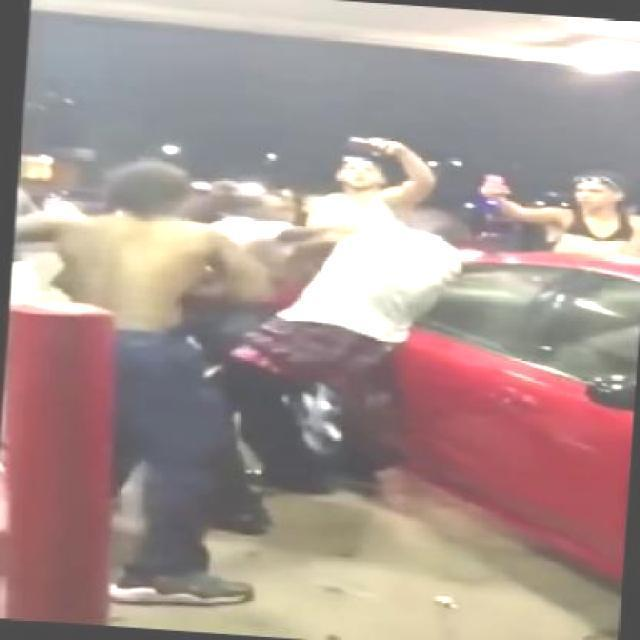fight: (29, 167, 483, 544)
non-fight: (470, 158, 638, 264)
